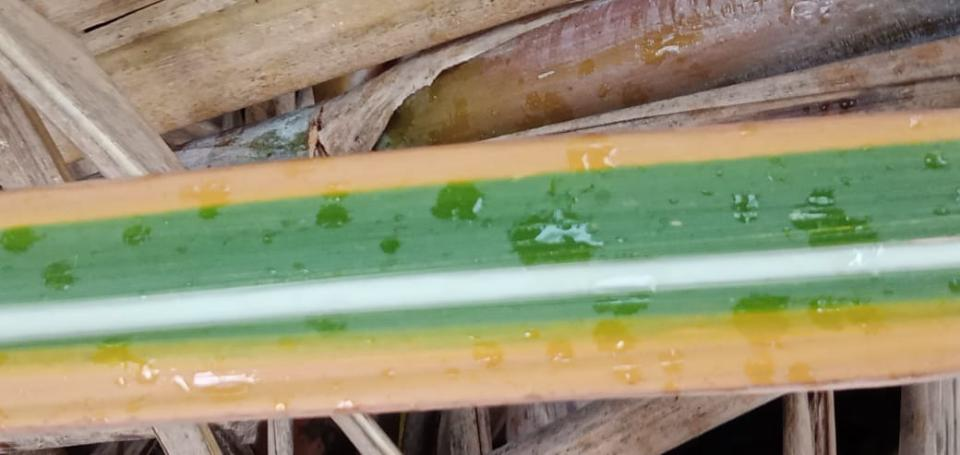Yellow: (0, 298, 959, 454), (0, 106, 959, 233)
